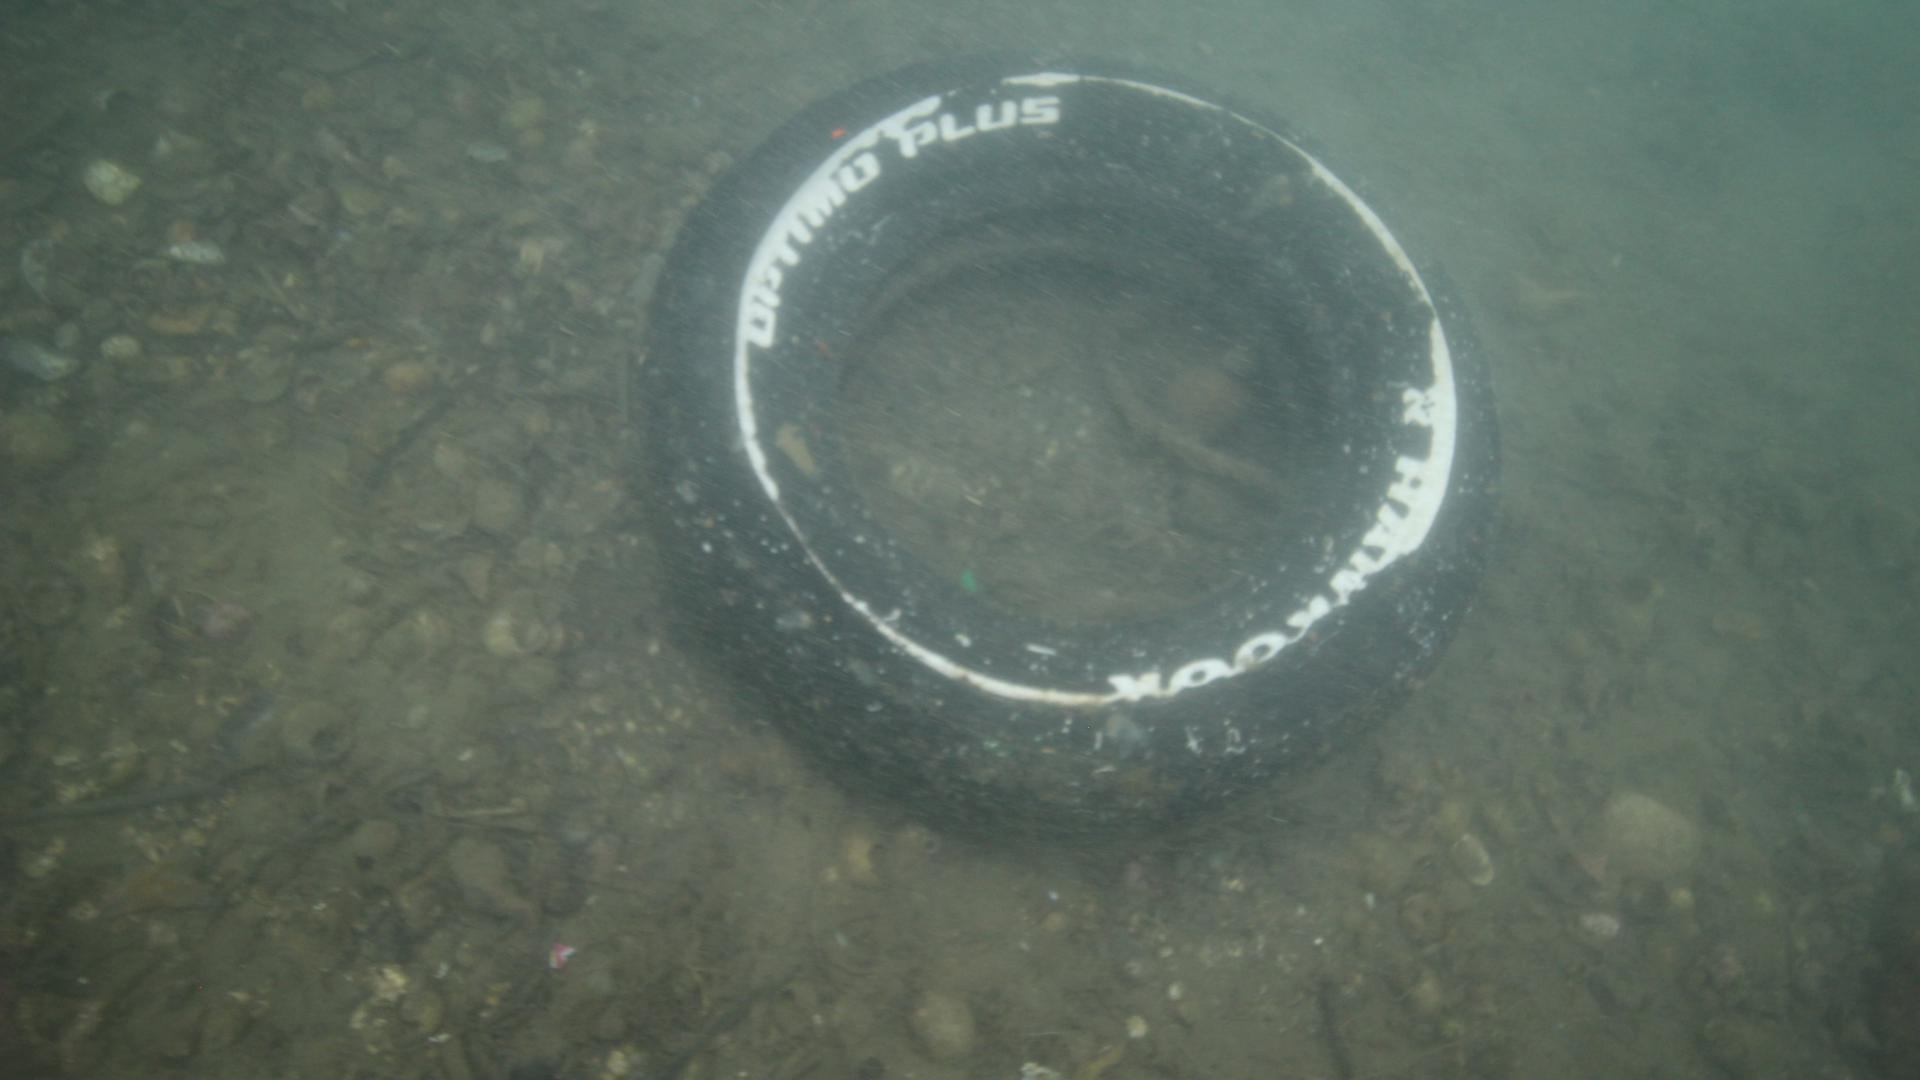tire: (637, 47, 1501, 849)
